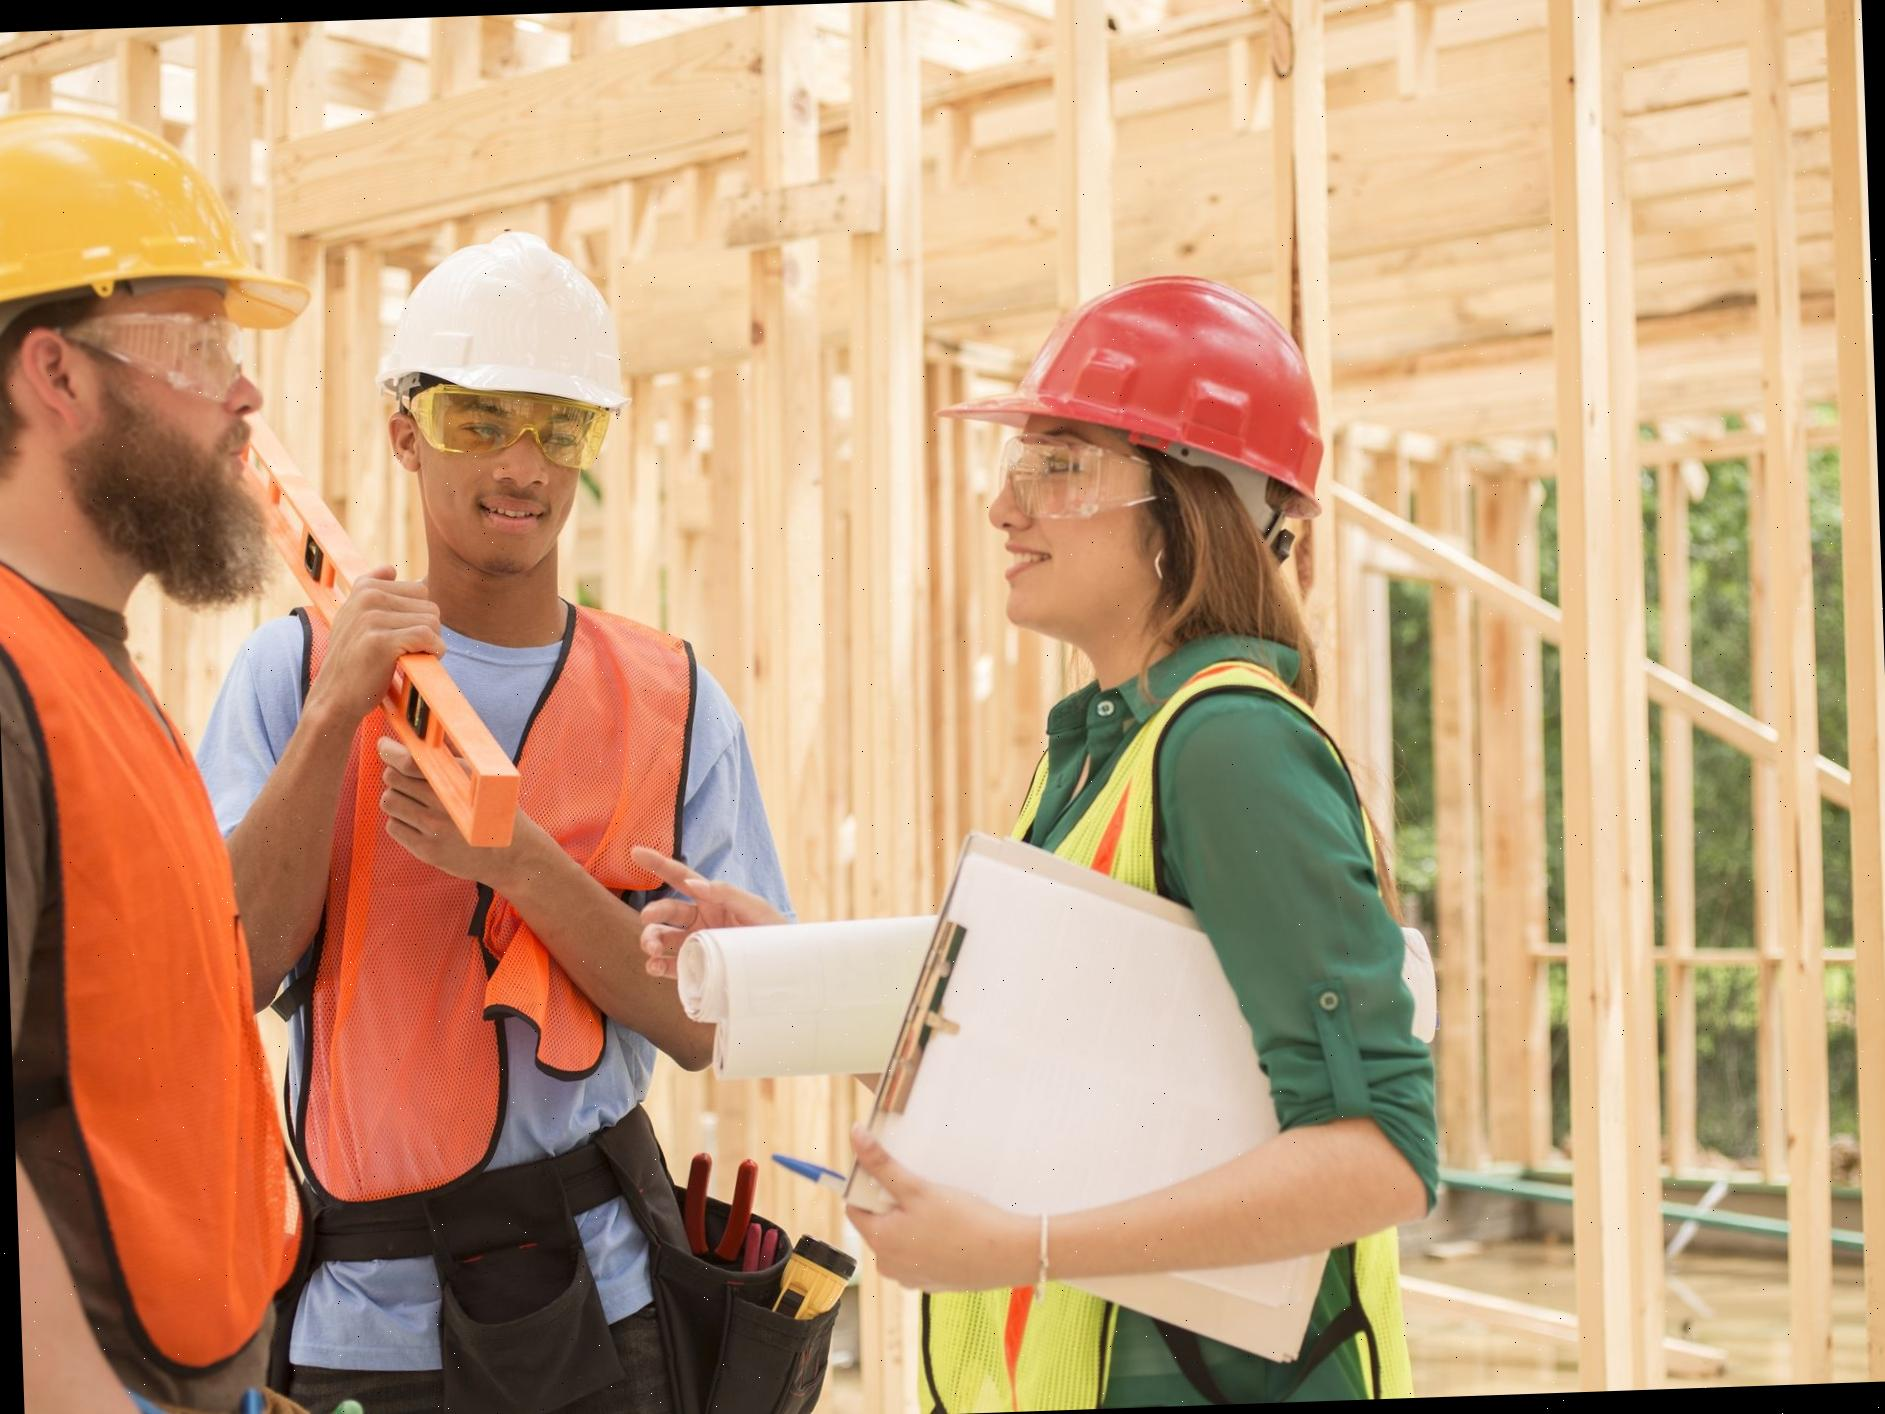helmet: (919, 264, 1344, 520), (0, 97, 312, 355), (370, 218, 658, 429)
wear: (917, 654, 1451, 1414), (276, 603, 723, 1202), (0, 584, 306, 1378)
